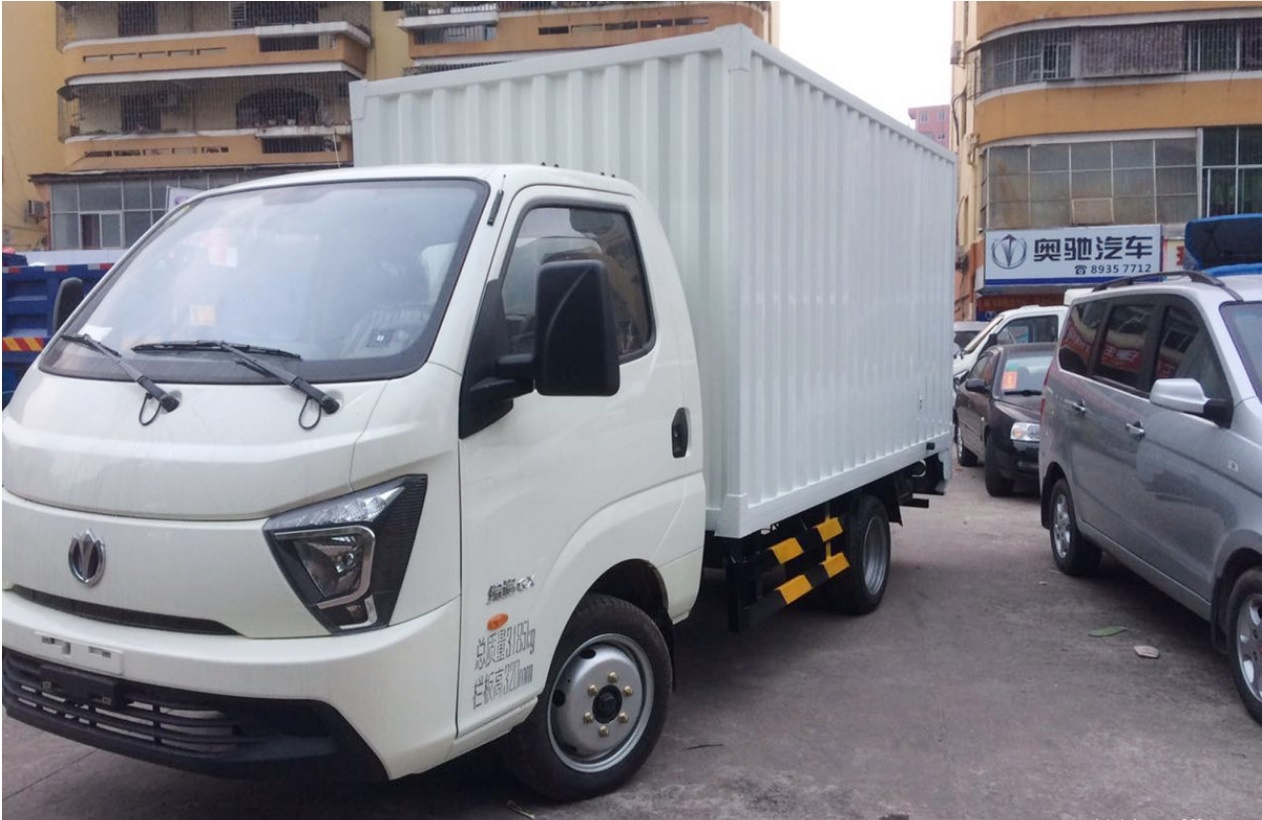truck: (18, 36, 961, 783)
